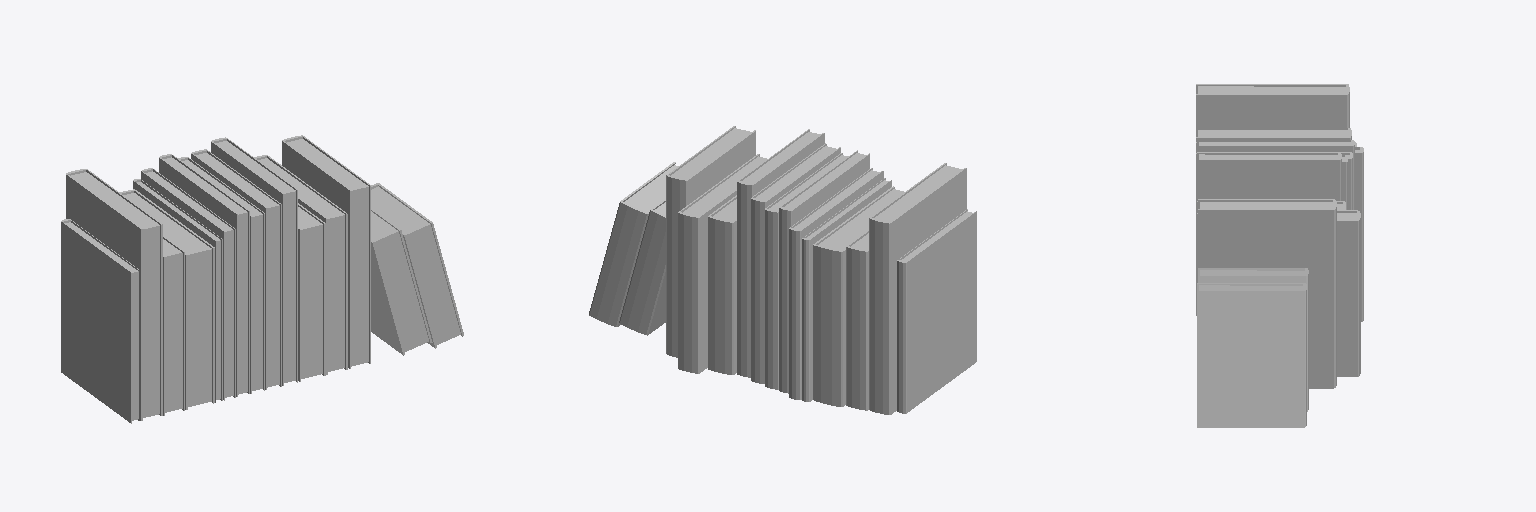
File: books1.obj
The picture shows the model from 3 angles: view 1: azimuth 30°, elevation 25°; view 2: azimuth 150°, elevation 25°; view 3: azimuth 270°, elevation 25°; orthographic projection.
Parts seen in each view (by area): view 1: Box2214_14, Box2223_5, Box2224_4, Box2225_3, Box2220_7, Box2221_7, Box2219_9, Box2222_6, Box2217_11, Box2216_12, Box2228_0, Box2215_13 (+3 smaller); view 2: Box2214_14, Box2223_5, Box2225_3, Box2222_6, Box2224_4, Box2228_0, Box2221_7, Box2219_9, Box2216_12, Box2217_11, Box2220_7, Box2226_2 (+3 smaller); view 3: Box2221_7, Box2224_4, Box2219_9, Box2223_5, Box2222_6, Box2217_11, Box2220_7, Box2226_2, Box2215_13.
Boxes of the visible parts, x1=… form: Box2214_14: x1=61, y1=219, x2=139, y2=423; Box2223_5: x1=66, y1=169, x2=162, y2=420; Box2224_4: x1=282, y1=135, x2=370, y2=368; Box2225_3: x1=119, y1=189, x2=214, y2=409; Box2220_7: x1=371, y1=208, x2=432, y2=355; Box2221_7: x1=371, y1=183, x2=463, y2=348; Box2219_9: x1=211, y1=137, x2=297, y2=385; Box2222_6: x1=254, y1=155, x2=347, y2=374; Box2217_11: x1=159, y1=154, x2=249, y2=396; Box2216_12: x1=191, y1=149, x2=281, y2=389; Box2228_0: x1=298, y1=203, x2=325, y2=381; Box2215_13: x1=141, y1=168, x2=235, y2=400; Box2214_14: x1=897, y1=209, x2=976, y2=413; Box2223_5: x1=869, y1=163, x2=966, y2=414; Box2225_3: x1=813, y1=186, x2=904, y2=406; Box2222_6: x1=678, y1=154, x2=766, y2=373; Box2224_4: x1=666, y1=126, x2=755, y2=357; Box2228_0: x1=708, y1=195, x2=736, y2=374; Box2221_7: x1=589, y1=162, x2=677, y2=326; Box2219_9: x1=737, y1=129, x2=824, y2=377; Box2216_12: x1=751, y1=143, x2=840, y2=383; Box2217_11: x1=779, y1=150, x2=869, y2=393; Box2220_7: x1=619, y1=198, x2=665, y2=335; Box2226_2: x1=846, y1=230, x2=868, y2=410; Box2221_7: x1=1197, y1=283, x2=1306, y2=427; Box2224_4: x1=1198, y1=199, x2=1336, y2=388; Box2219_9: x1=1197, y1=152, x2=1341, y2=200; Box2223_5: x1=1196, y1=84, x2=1349, y2=127; Box2222_6: x1=1337, y1=210, x2=1360, y2=376; Box2217_11: x1=1197, y1=140, x2=1354, y2=209; Box2220_7: x1=1198, y1=268, x2=1308, y2=411; Box2226_2: x1=1196, y1=128, x2=1351, y2=141; Box2215_13: x1=1355, y1=147, x2=1363, y2=321.
Bounding box in the file's own units: 180 × 99.17 × 78.5.